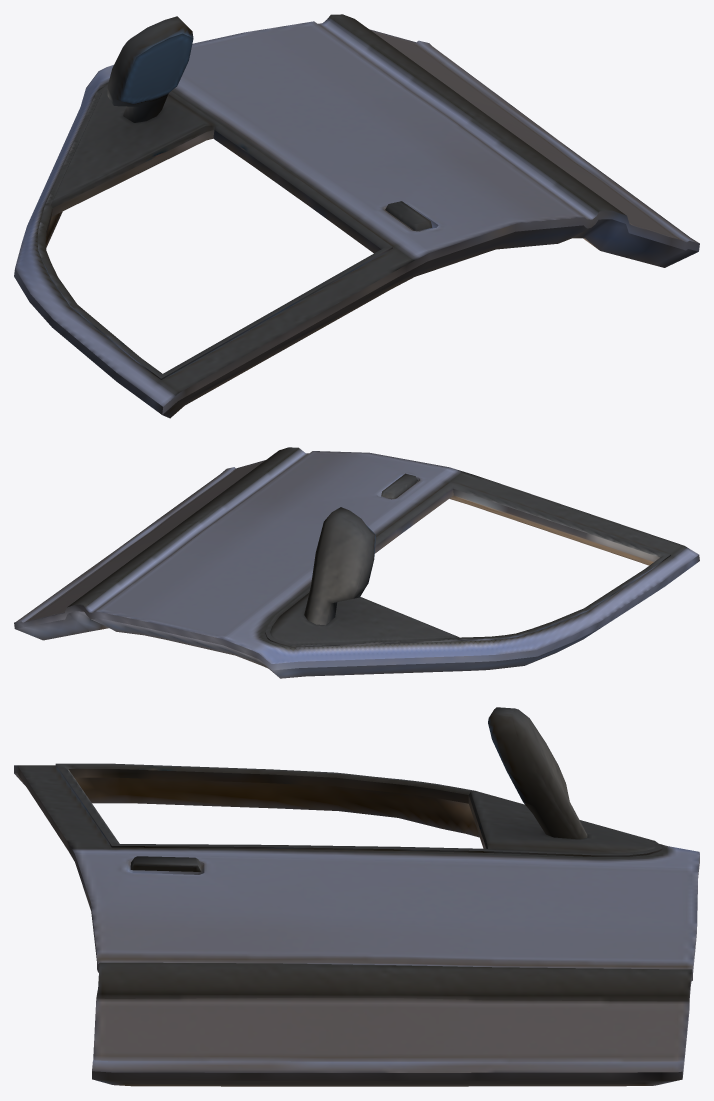
Rendered from FordExplorerFrontDoor_WorldItem.fbx.
3 views of the same model, one above another, from view 1: azimuth 30°, elevation 25°; view 2: azimuth 150°, elevation 25°; view 3: azimuth 270°, elevation 25° (orthographic). The views are drawn at different scales.
Parts seen in each view (by area): view 1: FrontRightDoor_obj; view 2: FrontRightDoor_obj; view 3: FrontRightDoor_obj.
Part boxes in pixels (left/top/right/bottom): FrontRightDoor_obj: left=14, top=14, right=699, bottom=418; FrontRightDoor_obj: left=14, top=447, right=699, bottom=678; FrontRightDoor_obj: left=14, top=707, right=699, bottom=1086.
Size of the model in its own units: 1.74 by 0.5588 by 1.66.
